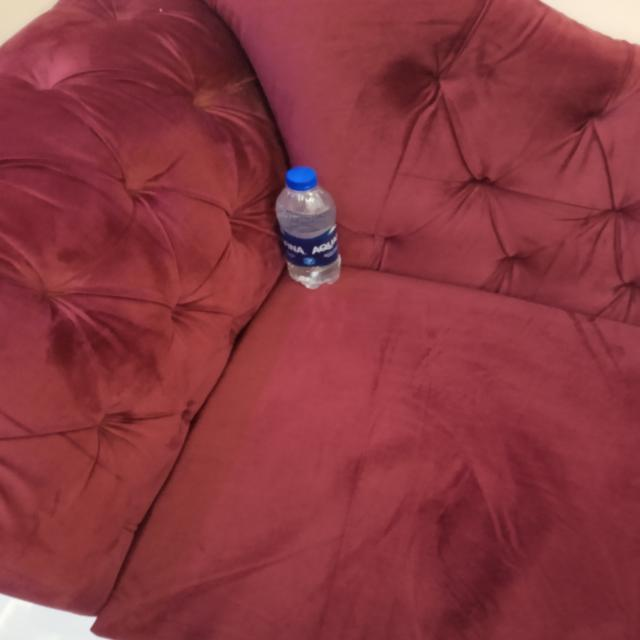Plastic: (271, 161, 351, 294)
